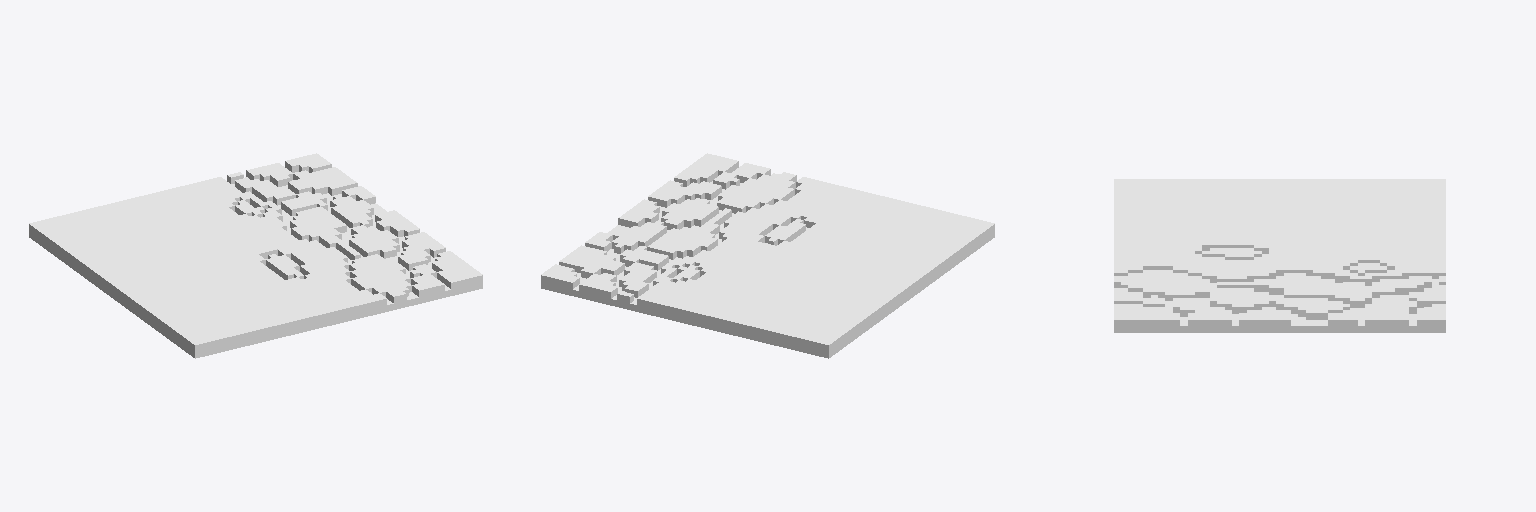
The model's file is ObsidianWall.obj.
3 views of the same model, side by side, from view 1: azimuth 30°, elevation 25°; view 2: azimuth 150°, elevation 25°; view 3: azimuth 270°, elevation 25° (orthographic).
Size of the model in its own units: 45 by 2 by 45.